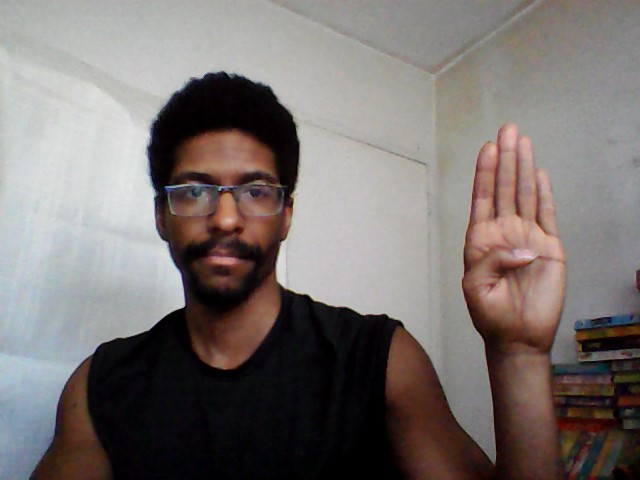b: (459, 118, 570, 347)
